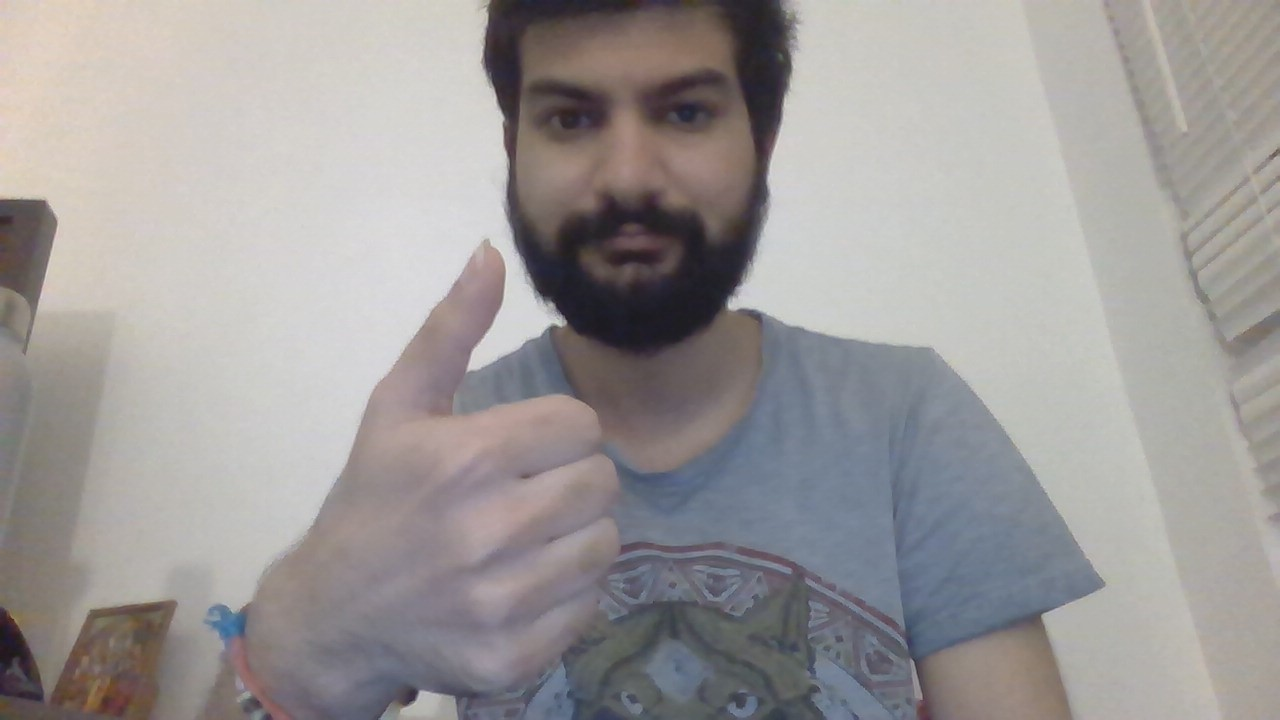up: (315, 236, 645, 698)
